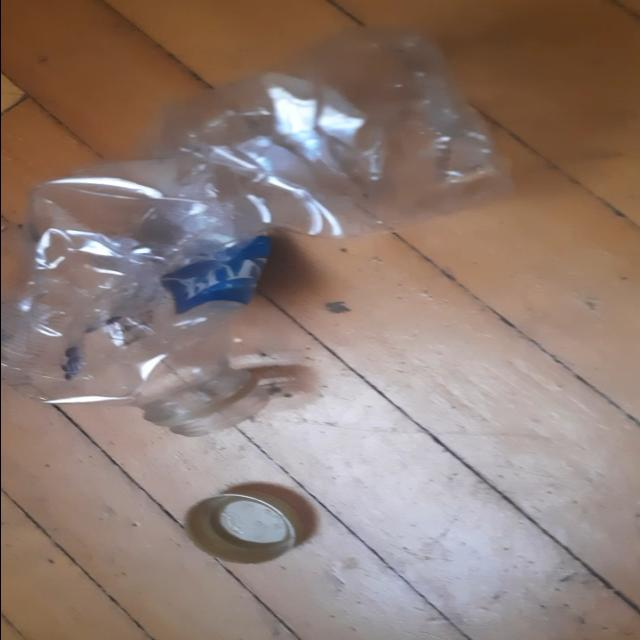Plastic: (2, 27, 516, 437)
